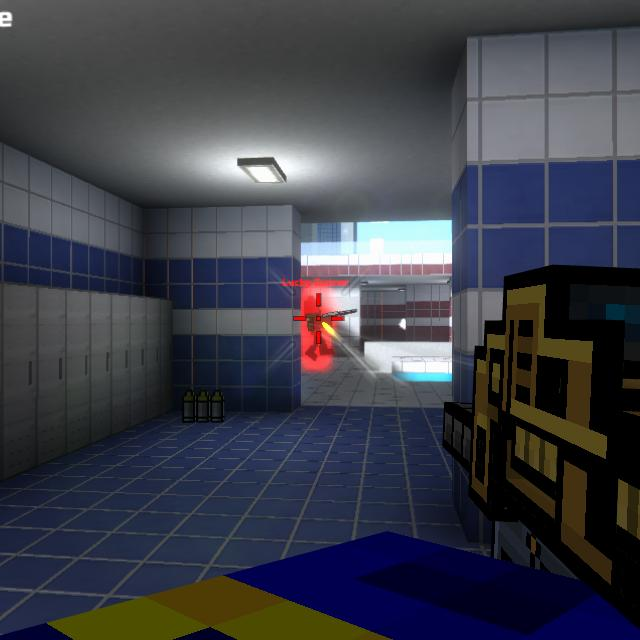Enemy: (304, 296, 332, 359)
